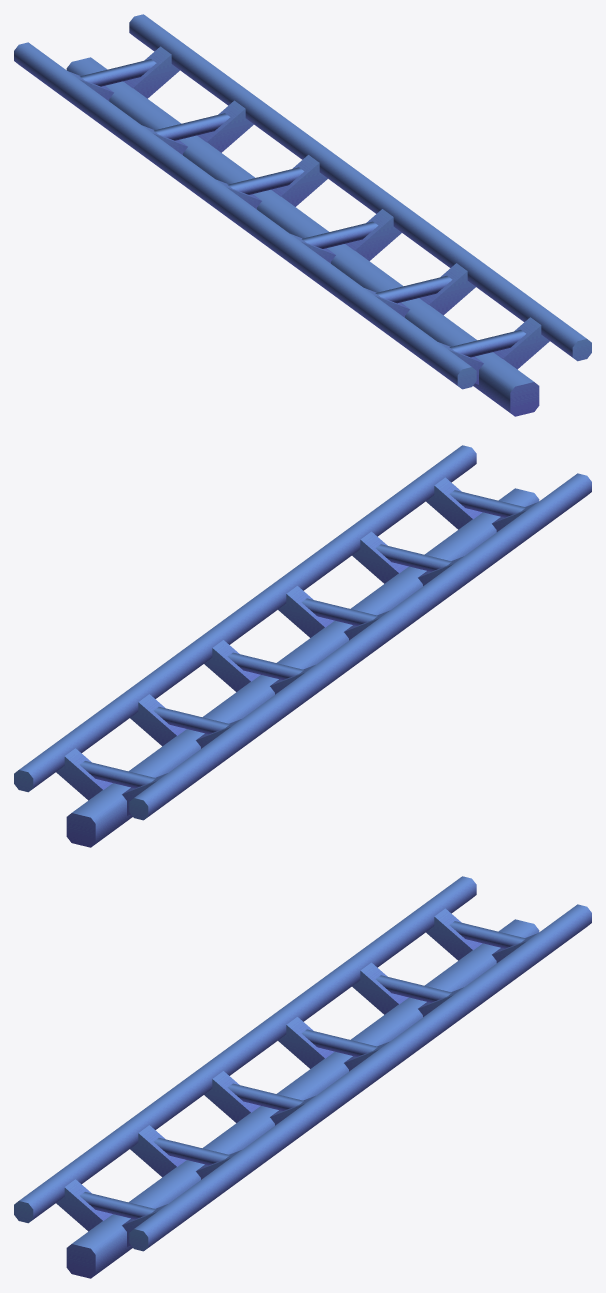
The model's file is coaster-steel-straight.glb.
3 renders of one model, top to bottom at view 1: azimuth 30°, elevation 25°; view 2: azimuth 150°, elevation 25°; view 3: azimuth 330°, elevation 25°, orthographic.
Visible parts, largest first — view 1: coaster-steel-straight; view 2: coaster-steel-straight; view 3: coaster-steel-straight.
Part boxes in pixels (<box>): coaster-steel-straight: <box>14,14,591,416</box>; coaster-steel-straight: <box>14,445,591,847</box>; coaster-steel-straight: <box>14,876,591,1278</box>.
Bounding box in the file's own units: 2.1 × 0.9 × 12.
1 material, 1 textured.
